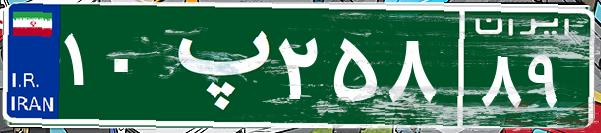0: (110, 28, 158, 105)
1: (57, 26, 110, 107)
2: (273, 28, 330, 110)
5: (330, 28, 385, 110)
8: (385, 28, 445, 110), (475, 38, 525, 113)
9: (525, 38, 570, 115)
پ: (158, 15, 273, 115)
